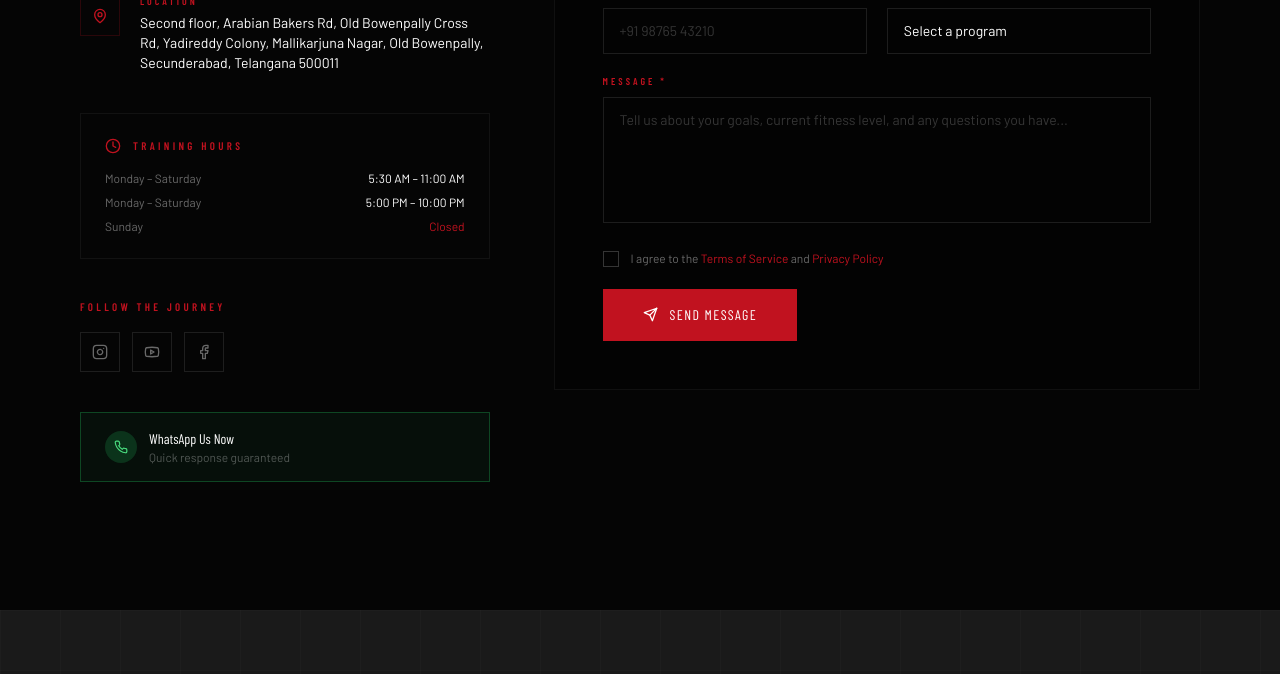
Test case: Contact Page › shows name validation error on empty submit
The width and height of the screenshot is (1280, 674).
(page scrolled)
Click the button "Send Message". click: coordinates (700, 315)
box: [603,289,797,341]
(page scrolled)
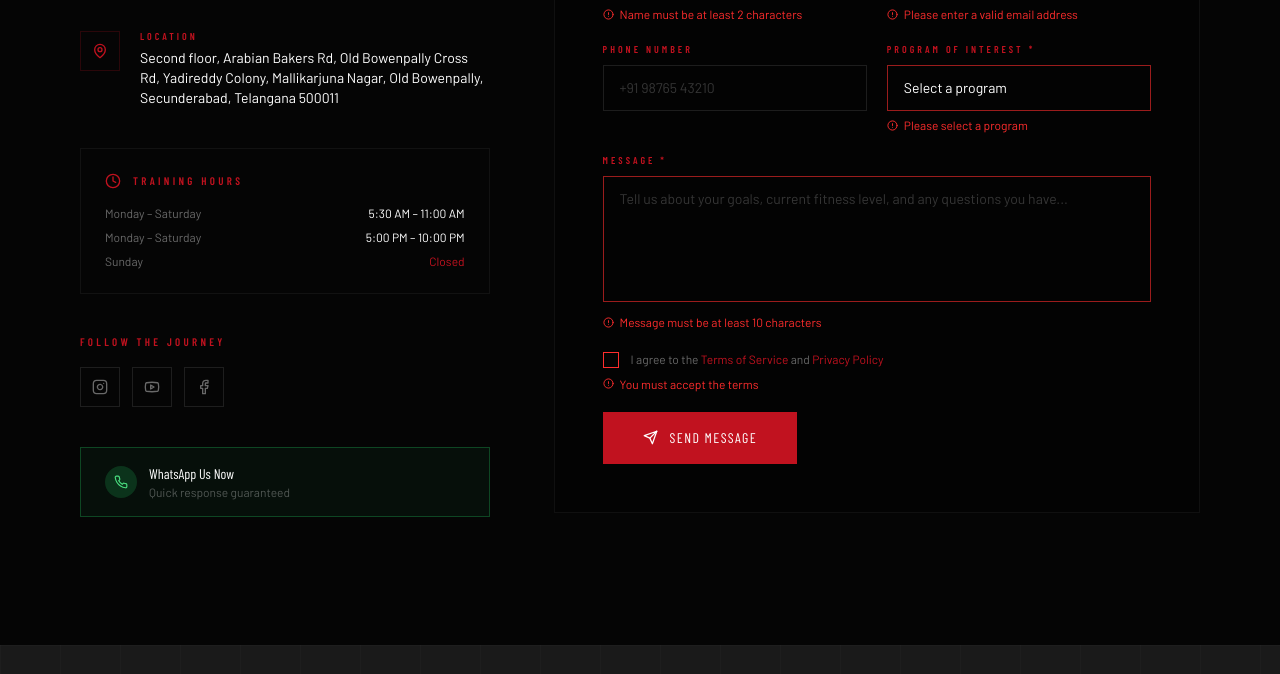
Now the text "Name must be at least 2 characters" is shown, box [603,7,802,21]
